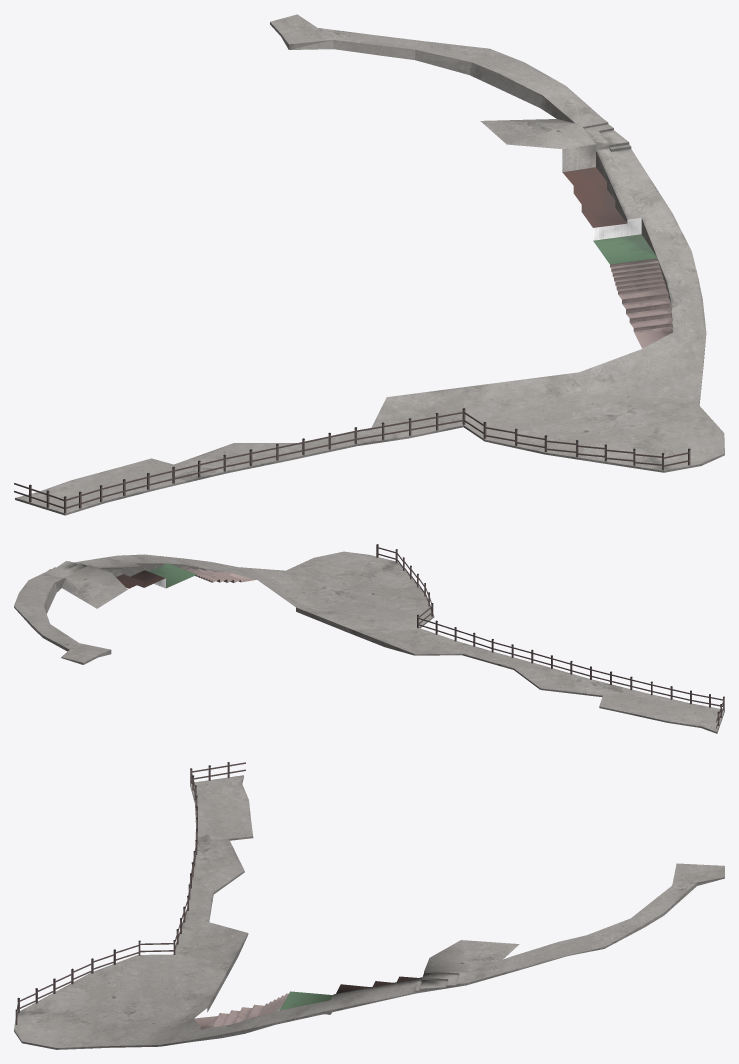
File: Dokdo_Police_Way.FBX
The picture shows the model from 3 angles, top to bottom: view 1: azimuth 30°, elevation 25°; view 2: azimuth 150°, elevation 25°; view 3: azimuth 270°, elevation 25°; orthographic projection. The views are drawn at different scales.
Parts seen in each view (by area): view 1: Dokdo_Police_Way; view 2: Dokdo_Police_Way; view 3: Dokdo_Police_Way.
Part boxes in pixels (<box>): Dokdo_Police_Way: <box>14,14,724,515</box>; Dokdo_Police_Way: <box>14,544,724,733</box>; Dokdo_Police_Way: <box>14,762,724,1049</box>.
Size of the model in its own units: 54.83 by 52.56 by 12.21.
